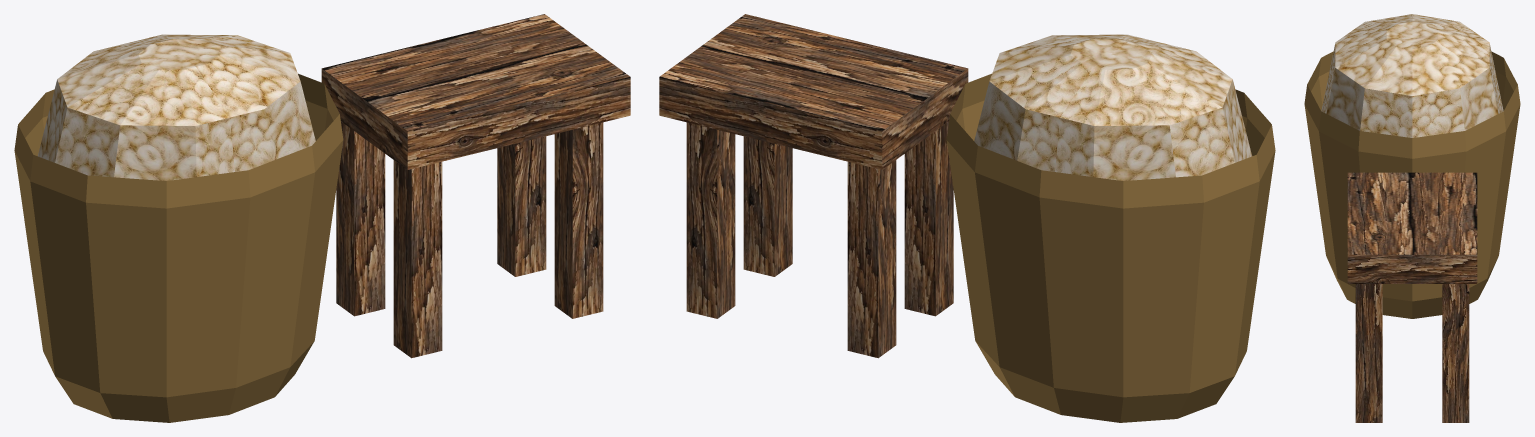
The model's file is forest01-props.glb.
3 views of the same model, side by side, from view 1: azimuth 30°, elevation 25°; view 2: azimuth 150°, elevation 25°; view 3: azimuth 270°, elevation 25° (orthographic). The views are drawn at different scales.
Visible parts, largest first — view 1: basket, stool, wool; view 2: basket, stool, wool; view 3: stool, basket, wool.
Part boxes in pixels (left/top/right/bottom): basket: left=14, top=73, right=343, bottom=422; stool: left=321, top=14, right=630, bottom=358; wool: left=38, top=34, right=315, bottom=180; basket: left=946, top=73, right=1275, bottom=422; stool: left=659, top=14, right=968, bottom=358; wool: left=974, top=34, right=1251, bottom=180; stool: left=1347, top=172, right=1477, bottom=422; basket: left=1304, top=51, right=1520, bottom=318; wool: left=1321, top=14, right=1503, bottom=137.
Size of the model in its own units: 0.9 by 0.5 by 0.4.
3 materials, 2 textured.
